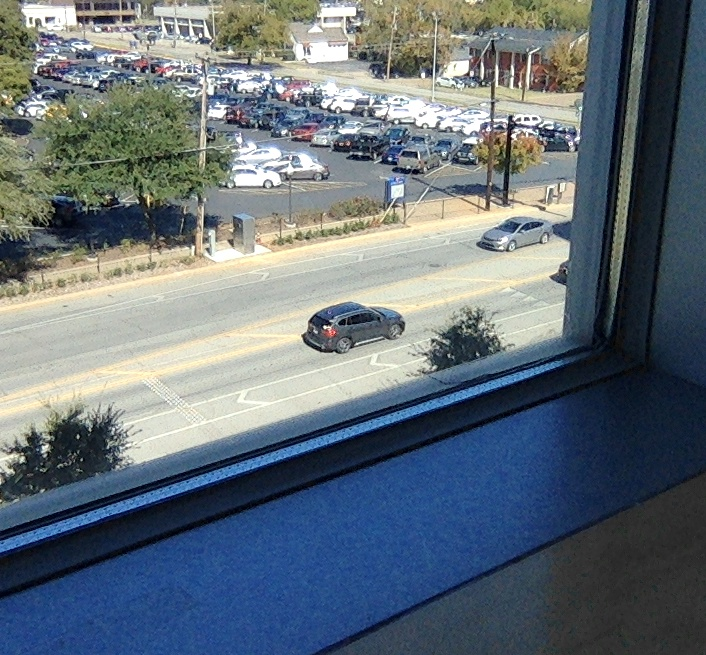car: (300, 300, 406, 355)
